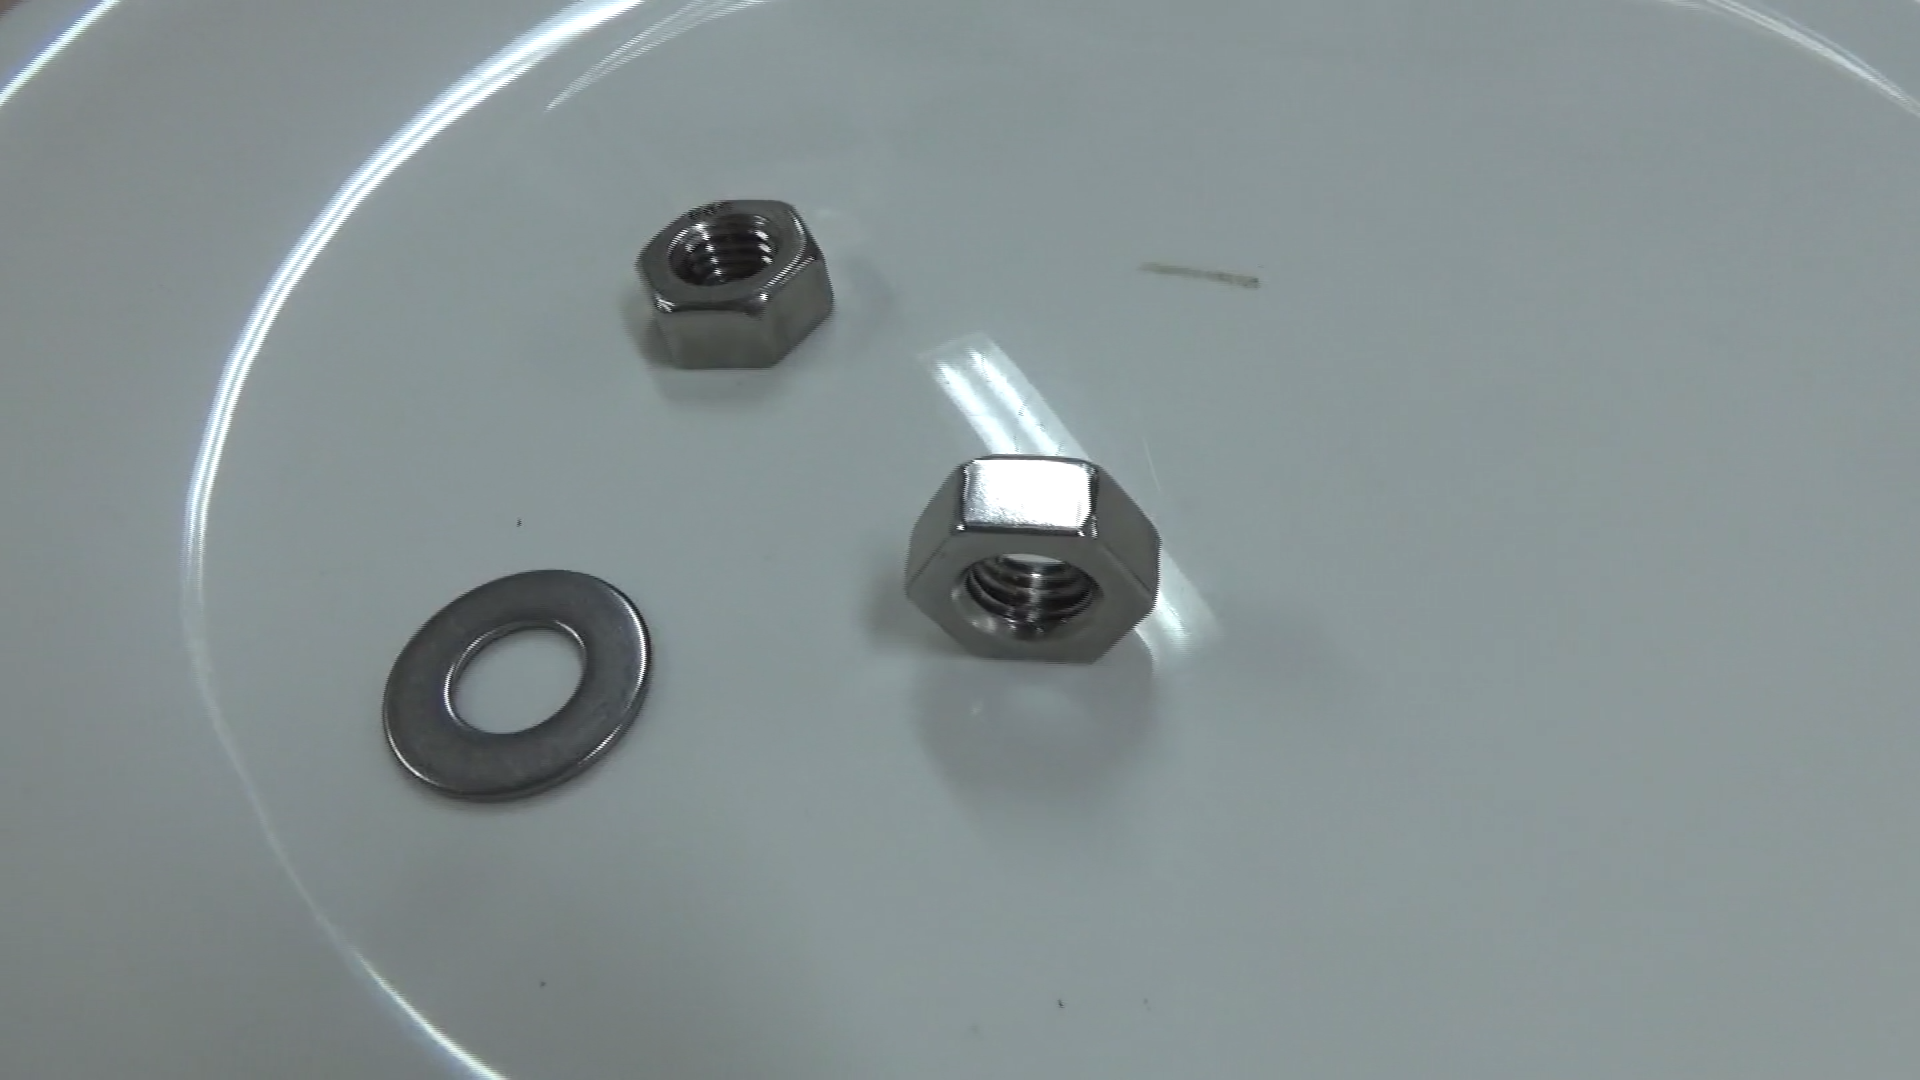nut: (899, 448, 1162, 665), (630, 195, 837, 372)
washer: (378, 564, 655, 807)
